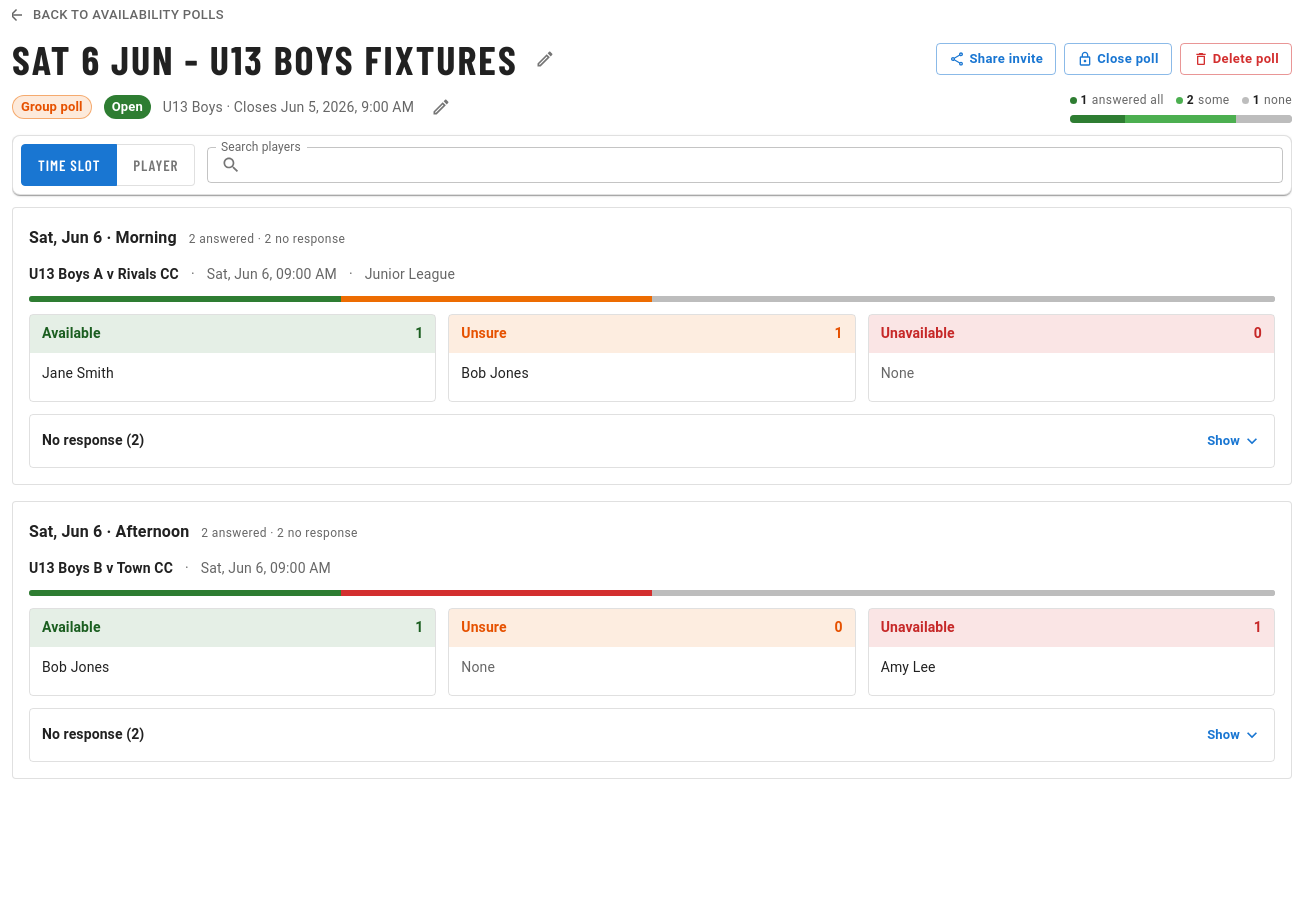
Test case: GroupPollResponsesPage › shows the arrow, the word Show / Hide and aria-expanded on the whole No response bar (085)
Expected: the heading "Sat 6 Jun - U13 Boys fixtures" is shown, top-left (12, 39), bottom-right (518, 79)
Expected: the 1st element with test id "no-response-toggle-label" reads "Show", top-left (1207, 433), bottom-right (1240, 448)
Click the button named "show no response players" at (652, 441), box top-left (38, 423), bottom-right (1266, 459)
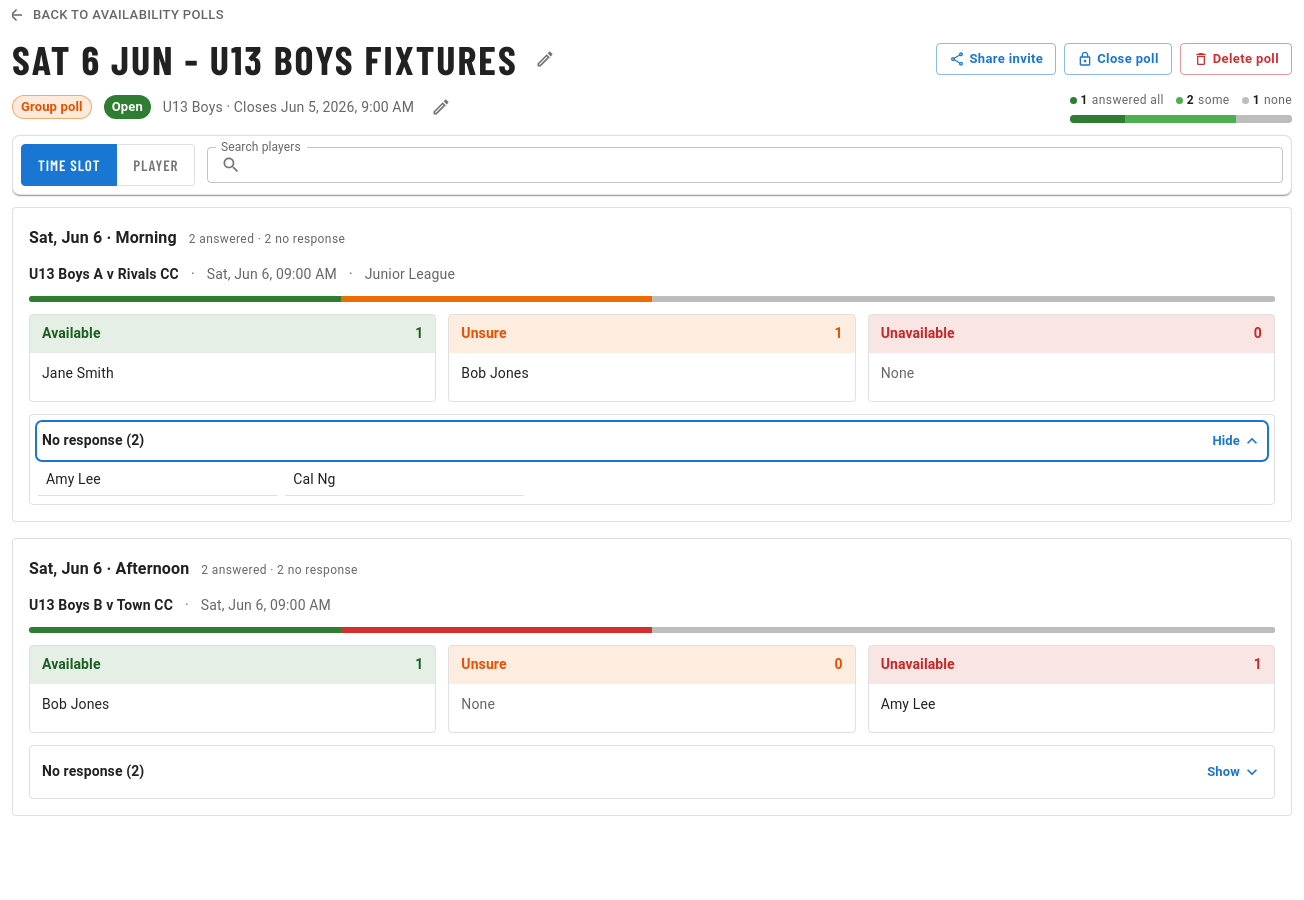
Expected: the button named "hide no response players" is expanded, top-left (38, 423), bottom-right (1266, 459)
Expected: the element with test id "no-response-toggle-label" reads "Hide", top-left (1212, 433), bottom-right (1240, 448)
Expected: the icon with test id "KeyboardArrowUpIcon" is shown, top-left (1242, 431), bottom-right (1262, 451)
